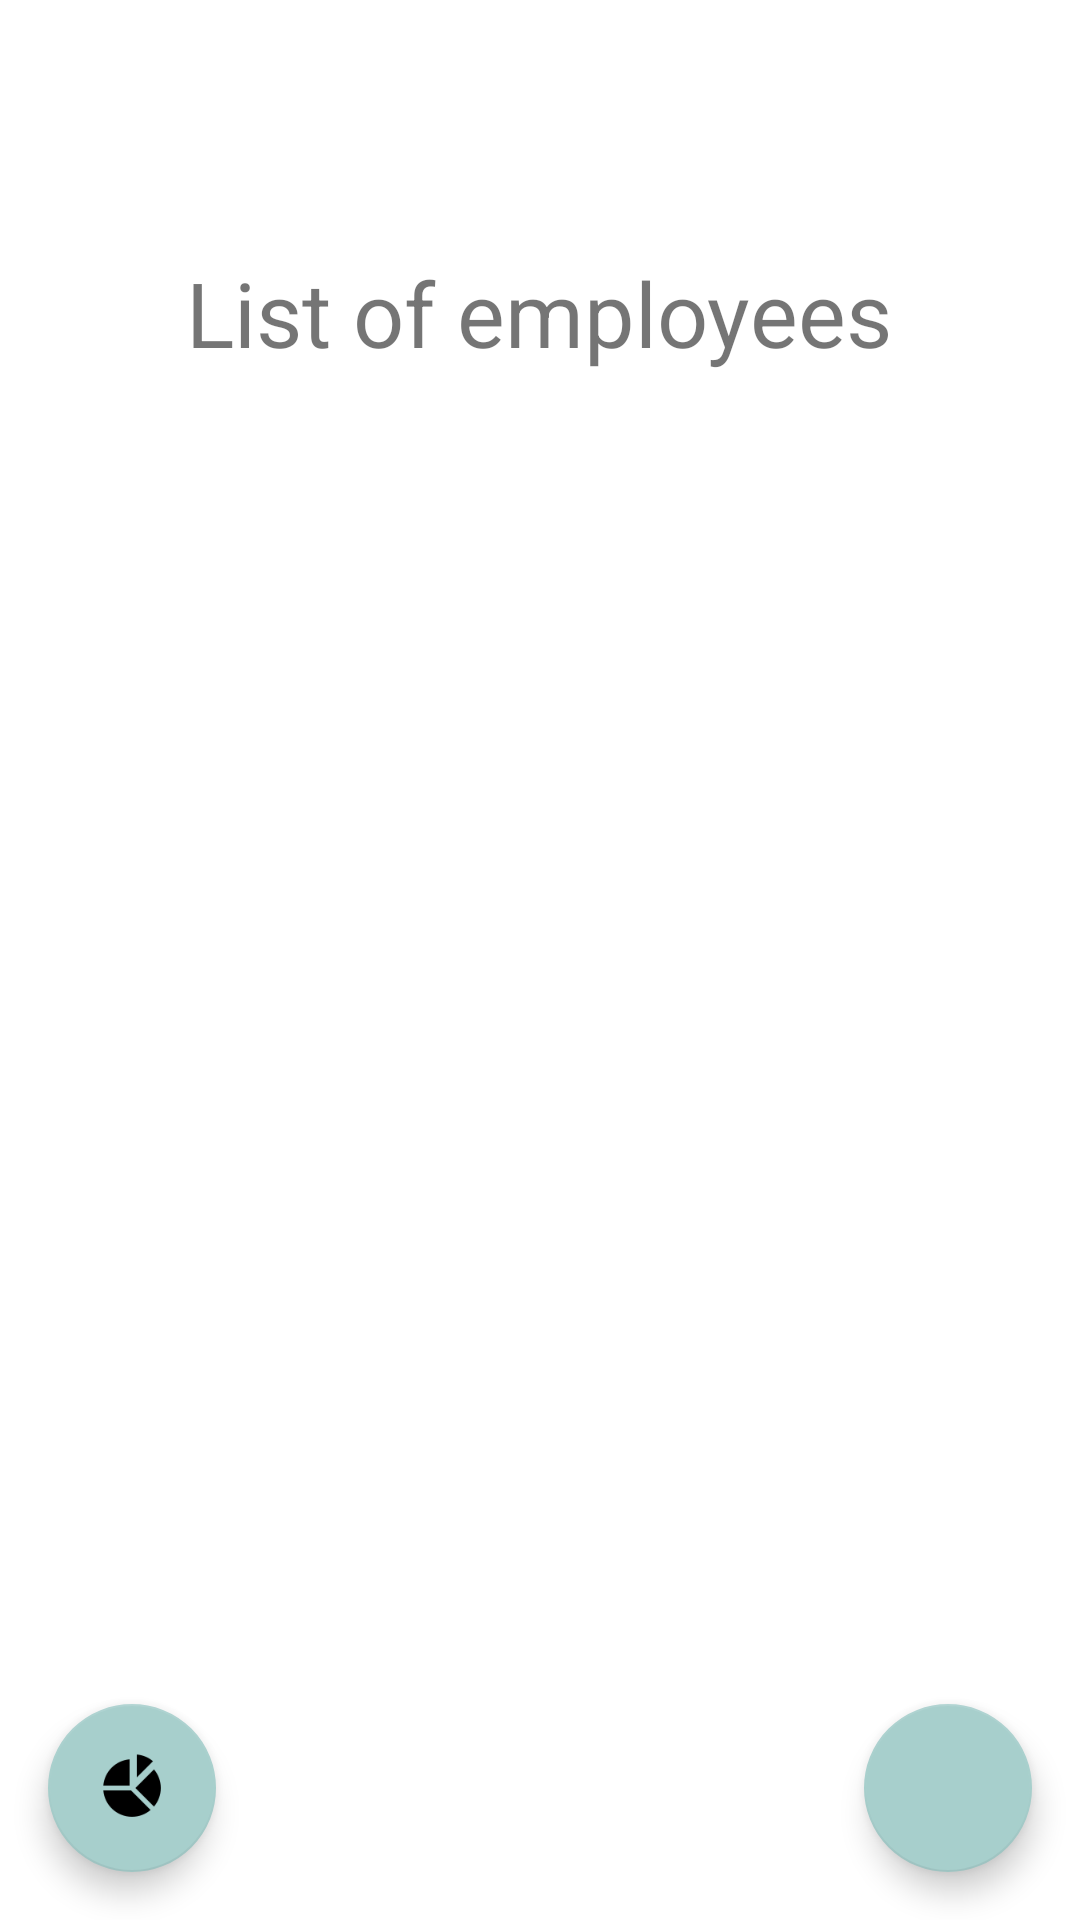

Named icons in this screenshot (1080x1920) and their bounding boxes, (x1, y1, x2, y2):
Statistics: (48, 1704, 216, 1872)
